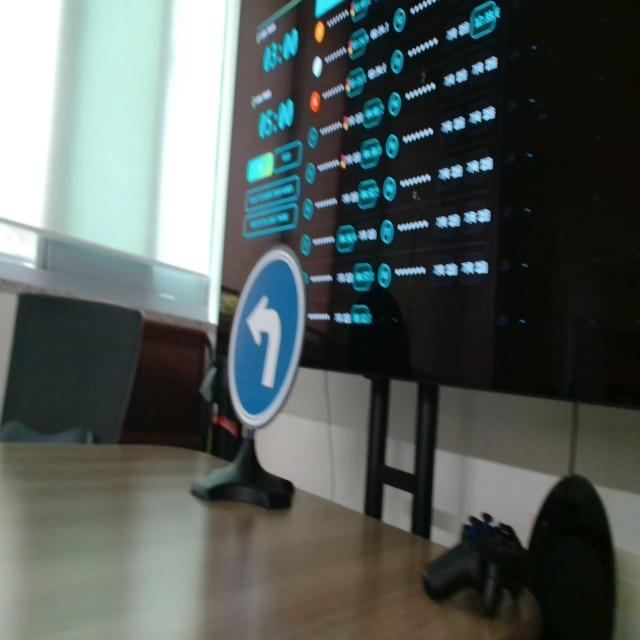left_direction: (220, 240, 325, 442)
